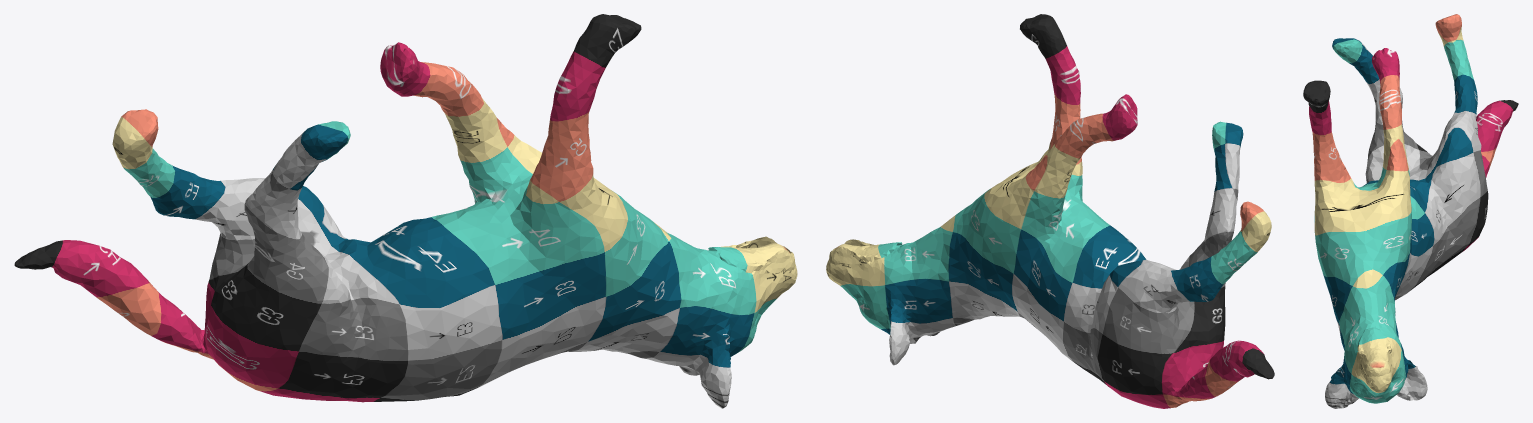
The model's file is horse_01-dog_05.obj.
3 views of the same model, side by side, from view 1: azimuth 30°, elevation 25°; view 2: azimuth 150°, elevation 25°; view 3: azimuth 270°, elevation 25° (orthographic). The views are drawn at different scales.
Visible parts, largest first — view 1: horse_01-dog_05_export; view 2: horse_01-dog_05_export; view 3: horse_01-dog_05_export.
Part boxes in pixels (box(x1,y1,x2,y2)): horse_01-dog_05_export: box(14, 14, 797, 408); horse_01-dog_05_export: box(826, 14, 1274, 408); horse_01-dog_05_export: box(1303, 14, 1518, 408).
Bounding box in the file's own units: 1.13 × 0.6869 × 0.4708.
